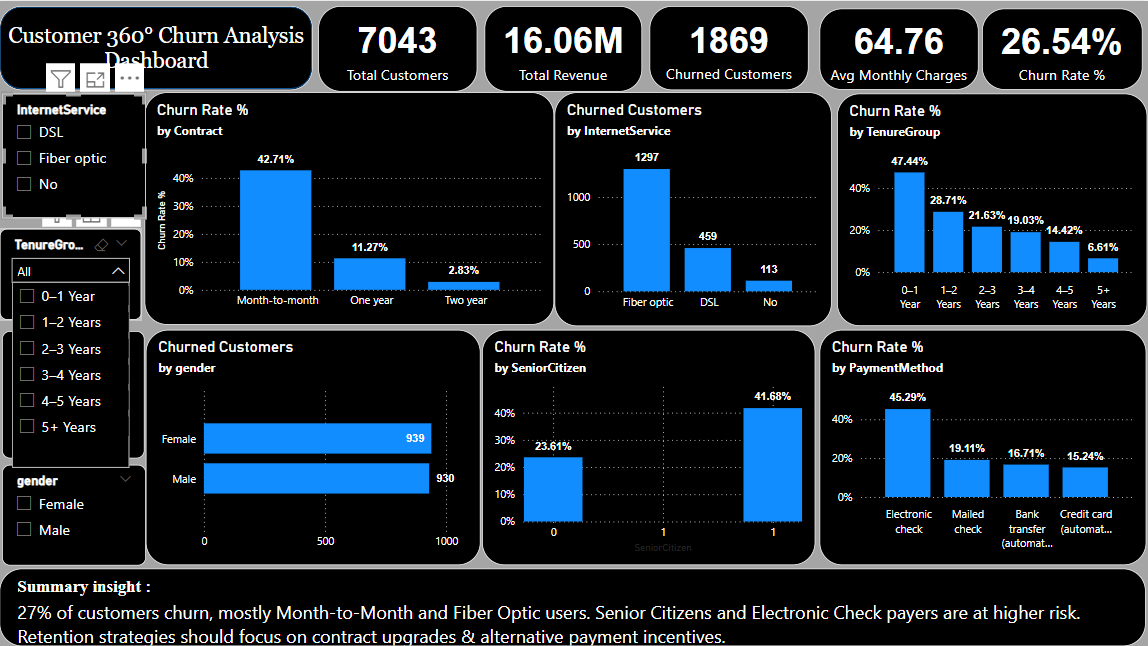

This screenshot's page, from the dashboard's own definition file:
{"tool":"powerbi","page":{"name":"Page 1","canvas":[1280,720],"ordinal":0},"visuals":[{"type":"card","fields":{"Values":["Measured Table.Churned Customers"]},"box":[725,5,176.7,93.3],"z":0},{"type":"actionButton","box":[60.3,359.5,100.1,39.8],"z":1000},{"type":"card","fields":{"Values":["Measured Table.Total Customers"]},"box":[356.7,5,176.7,95],"z":2000},{"type":"card","fields":{"Values":["Measured Table.Churn Rate %"]},"box":[1095,8.3,178.3,90],"z":3000},{"type":"card","fields":{"Values":["Measured Table.Avg Monthly Charges"]},"box":[913.3,8.3,176.7,90],"z":4000},{"type":"card","fields":{"Values":["Measured Table.Total Revenue"]},"box":[541.7,5,175,95],"z":5000},{"type":"clusteredColumnChart","fields":{"Y":["Measured Table.Churn Rate %"],"Category":["DimContract.Contract"]},"box":[163.3,101.7,455,258.3],"z":6000},{"type":"columnChart","fields":{"Y":["Measured Table.Churn Rate %"],"Category":["DimTenure table.TenureGroup"]},"box":[933.3,103.3,345,258.3],"z":7000},{"type":"clusteredColumnChart","fields":{"Y":["Measured Table.Churned Customers"],"Category":["DimServices.InternetService"]},"box":[620,101.7,308.3,260],"z":8000},{"type":"barChart","fields":{"Category":["DimCustomer.gender"],"Y":["Measured Table.Churned Customers"]},"box":[165,365,371.7,261.7],"z":9000},{"type":"clusteredColumnChart","fields":{"Y":["Measured Table.Churn Rate %"],"Category":["DimCustomer.SeniorCitizen"]},"box":[538.3,365,370,261.7],"z":10000},{"type":"columnChart","fields":{"Y":["Measured Table.Churn Rate %"],"Category":["DimContract.PaymentMethod"]},"box":[913.3,365,363.3,261.7],"z":11000},{"type":"slicer","fields":{"Values":["DimContract.Contract"]},"box":[5,366.7,158.3,141.7],"z":12000},{"type":"slicer","fields":{"Values":["DimServices.InternetService"]},"box":[5,103.3,160,138.3],"z":13000},{"type":"slicer","fields":{"Values":["DimTenure table.TenureGroup"]},"box":[3.3,253.3,158.3,101.7],"z":14000},{"type":"slicer","fields":{"Values":["DimCustomer.gender"]},"box":[5,515,160,111.7],"z":15000},{"type":"shape","box":[3.3,5,348.3,93.3],"z":16000},{"type":"shape","title":"Summary insight : ","box":[3.3,630,1273.3,86.7],"z":17000}]}

Visuals, with their boxes in screenshot pixels (x1, y1, x2, y2), scaled from the page's 1280x720 canvas onto the 1148x646 screenshot:
card - Measured Table.Churned Customers: [left=650, top=4, right=809, bottom=88]
actionButton: [left=54, top=323, right=144, bottom=358]
card - Measured Table.Total Customers: [left=320, top=4, right=478, bottom=90]
card - Measured Table.Churn Rate %: [left=982, top=7, right=1142, bottom=88]
card - Measured Table.Avg Monthly Charges: [left=819, top=7, right=978, bottom=88]
card - Measured Table.Total Revenue: [left=486, top=4, right=643, bottom=90]
clusteredColumnChart - Measured Table.Churn Rate % x DimContract.Contract: [left=146, top=91, right=555, bottom=323]
columnChart - Measured Table.Churn Rate % x DimTenure table.TenureGroup: [left=837, top=93, right=1146, bottom=324]
clusteredColumnChart - Measured Table.Churned Customers x DimServices.InternetService: [left=556, top=91, right=833, bottom=325]
barChart - DimCustomer.gender x Measured Table.Churned Customers: [left=148, top=327, right=481, bottom=562]
clusteredColumnChart - Measured Table.Churn Rate % x DimCustomer.SeniorCitizen: [left=483, top=327, right=815, bottom=562]
columnChart - Measured Table.Churn Rate % x DimContract.PaymentMethod: [left=819, top=327, right=1145, bottom=562]
slicer - DimContract.Contract: [left=4, top=329, right=146, bottom=456]
slicer - DimServices.InternetService: [left=4, top=93, right=148, bottom=217]
slicer - DimTenure table.TenureGroup: [left=3, top=227, right=145, bottom=319]
slicer - DimCustomer.gender: [left=4, top=462, right=148, bottom=562]
shape: [left=3, top=4, right=315, bottom=88]
"Summary insight : " shape: [left=3, top=565, right=1145, bottom=643]
